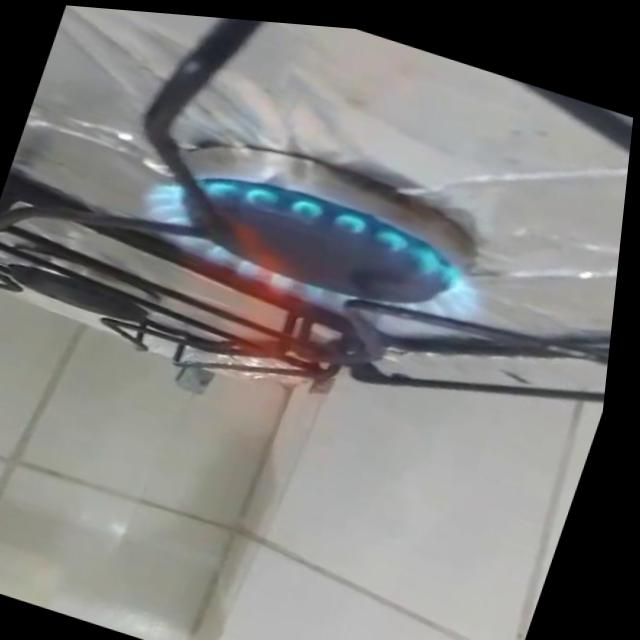Fire: (77, 129, 522, 492)
